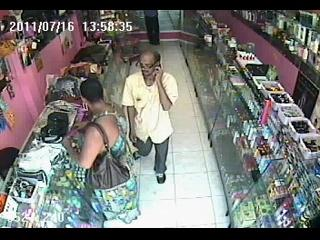Normal: (62, 78, 140, 224), (120, 50, 178, 184)
